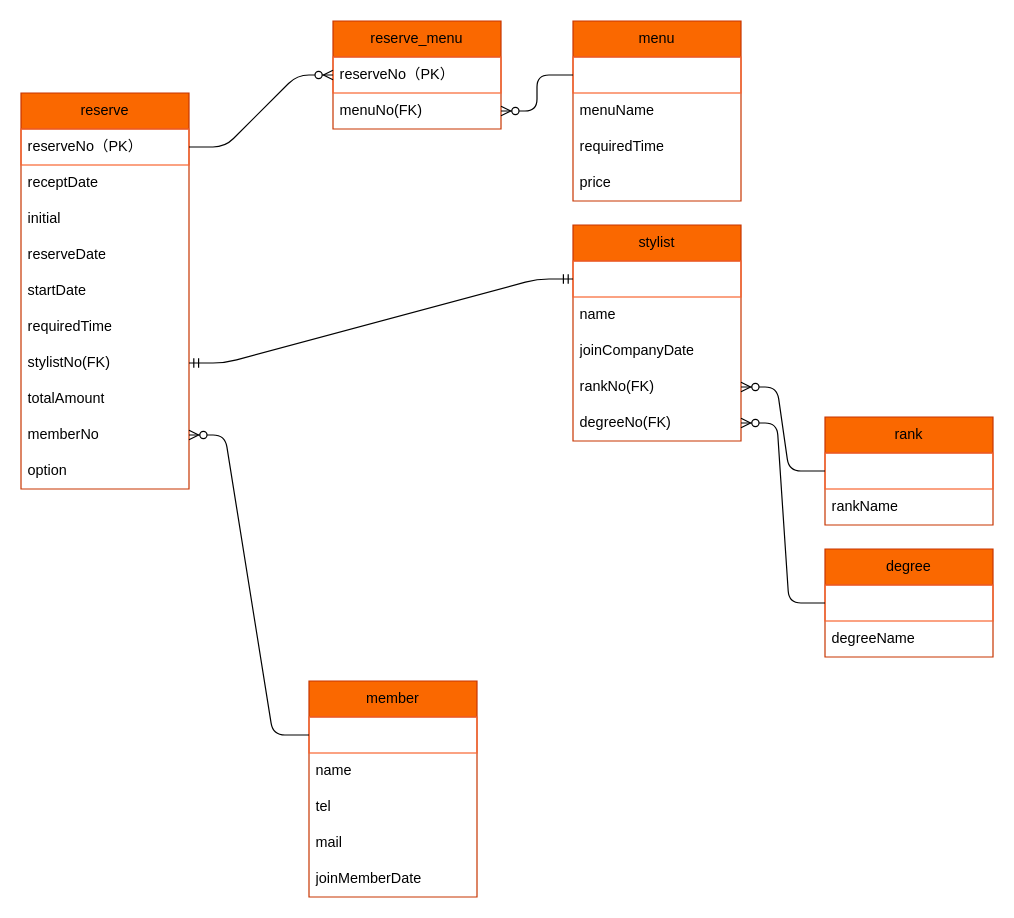
Image size: 1014x918. Some labels were removed from this diagram. The centre of each missing label's shape, as x and y in pixels:
"degreeNo（PK）" belongs at point (908, 602).
"memberNo（PK）" belongs at point (392, 734).
"menuNo（PK）" belongs at point (656, 74).
"rankNo（PK）" belongs at point (908, 470).
"stylistNo（PK）" belongs at point (656, 278).
